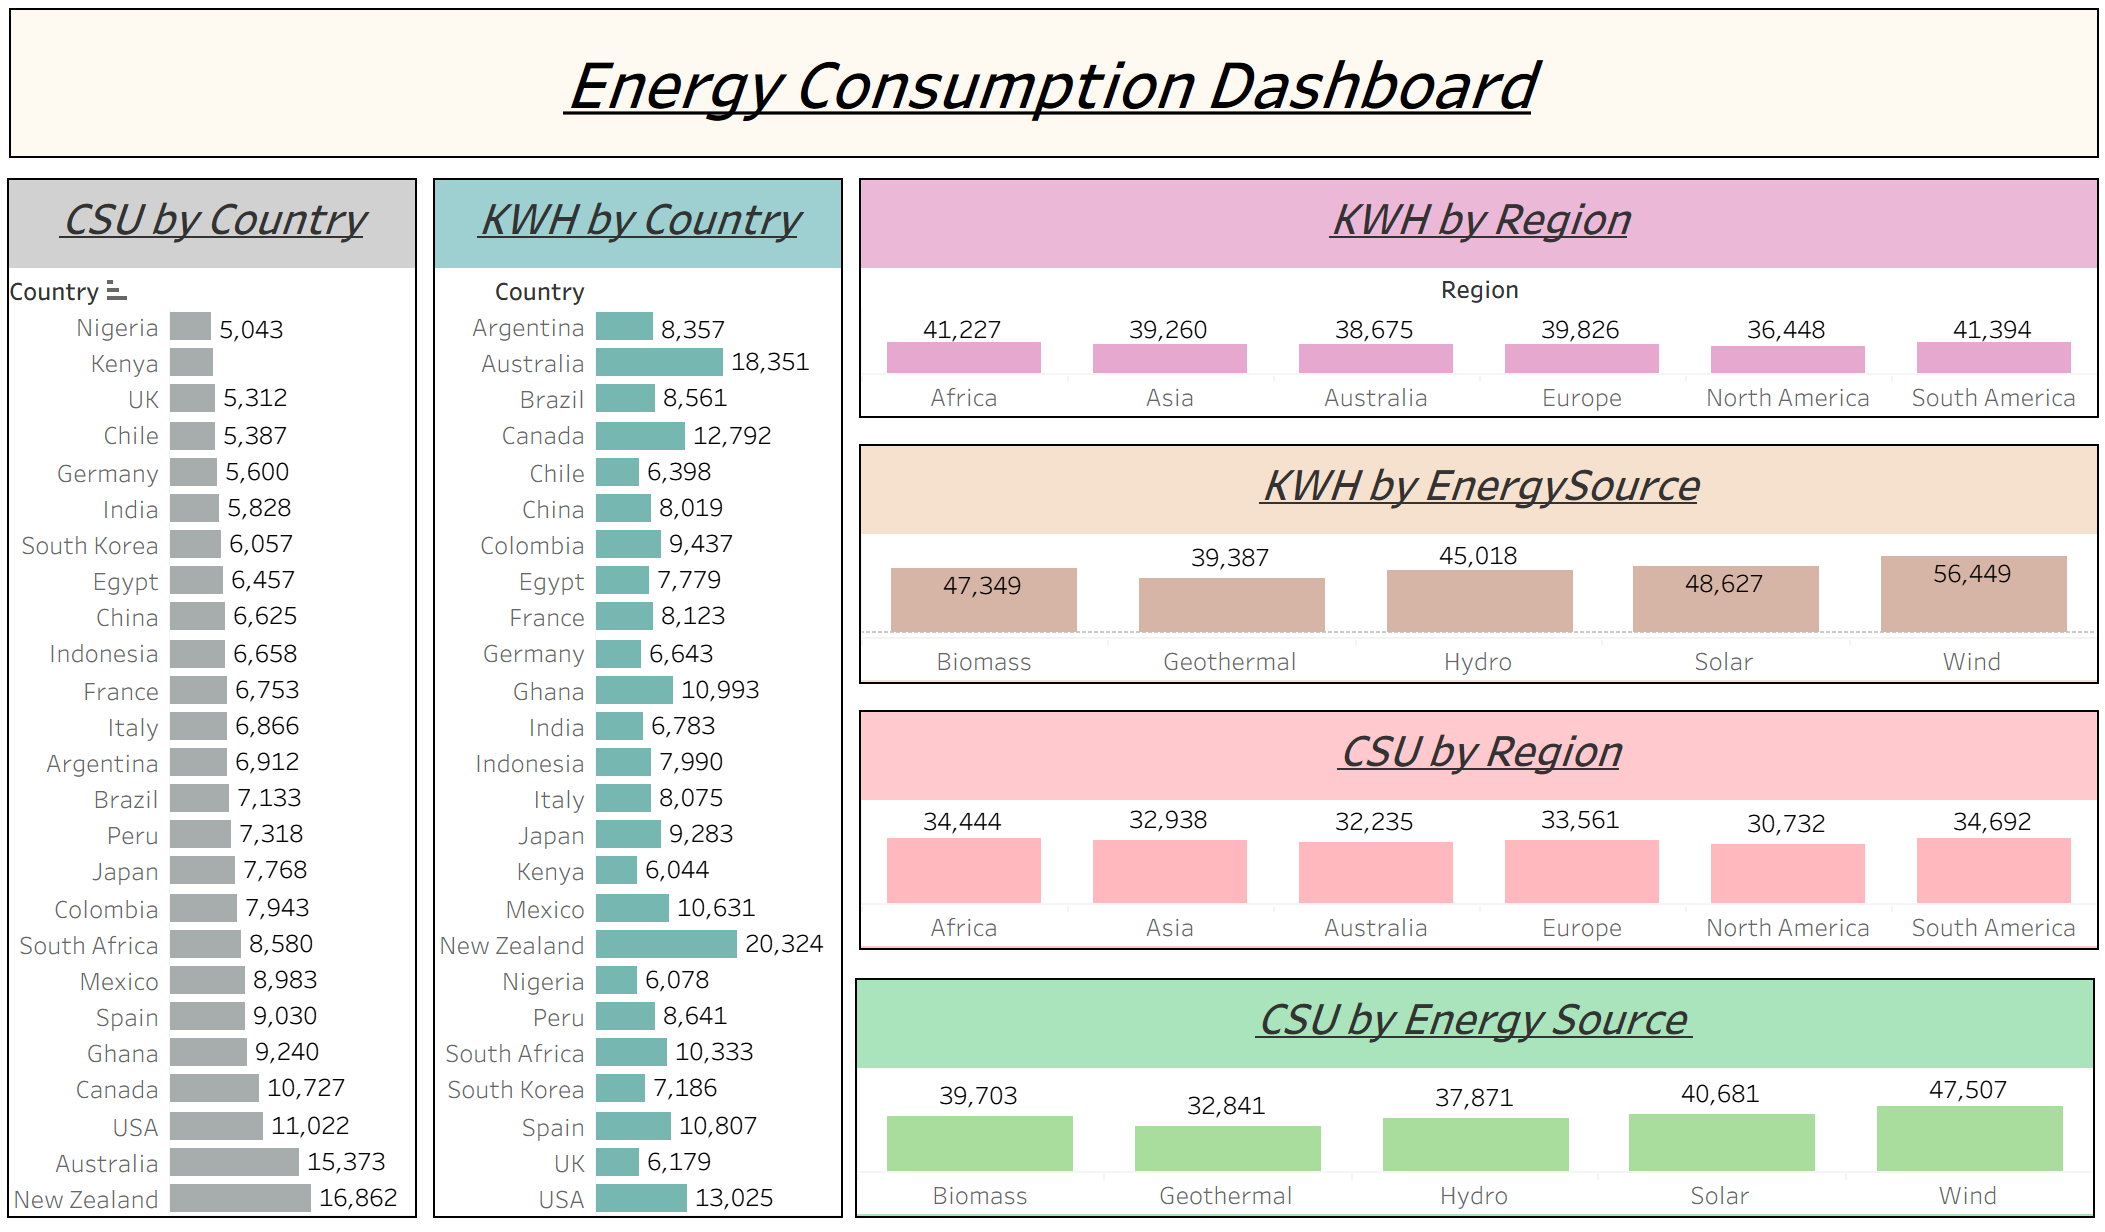

Layout of this report page (visuals, bound fields, positions):
{"tool":"tableau","page":{"name":"Tableau SNF Project Aws 1","canvas":[1000,1000],"units":"permille","ordinal":0},"visuals":[{"type":"text","box":[14,16,977.6,120]},{"type":"worksheet","title":"CSU by Country","mark":"Automatic","rows":["COUNTRY"],"cols":["COST_SAVINGS_USD"],"box":[13.1,152,191.8,832]},{"type":"worksheet","title":"KWH by Country","mark":"Automatic","rows":["COUNTRY"],"cols":["MONTHLY_USAGE_KWH"],"box":[212.3,152,191.8,832]},{"type":"worksheet","title":"KWH by Region","mark":"Automatic","rows":["MONTHLY_USAGE_KWH"],"cols":["REGION"],"box":[411.6,152,580,192]},{"type":"worksheet","title":"KWH by EnergySource","mark":"Automatic","rows":["MONTHLY_USAGE_KWH"],"cols":["ENERGY_SOURCE"],"box":[411.6,364.8,580,192]},{"type":"worksheet","title":"CSU by Region","mark":"Automatic","rows":["COST_SAVINGS_USD"],"cols":["REGION"],"box":[411.6,577.6,580,192]},{"type":"worksheet","title":"CSU by Energy Source ","mark":"Automatic","rows":["COST_SAVINGS_USD"],"cols":["ENERGY_SOURCE"],"box":[409.7,792,580,192]}]}

Visuals, with their boxes on the dashboard's canvas, which has no fixed pixel size, in thousandths of its width and height (x1, y1, x2, y2). These are canvas units, not pixel positions in the 2105x1232 screenshot, which may show the page scaled, cropped or inside an application window:
text: l=14, t=16, r=992, b=136
"CSU by Country" worksheet: l=13, t=152, r=205, b=984
"KWH by Country" worksheet: l=212, t=152, r=404, b=984
"KWH by Region" worksheet: l=412, t=152, r=992, b=344
"KWH by EnergySource" worksheet: l=412, t=365, r=992, b=557
"CSU by Region" worksheet: l=412, t=578, r=992, b=770
"CSU by Energy Source " worksheet: l=410, t=792, r=990, b=984
